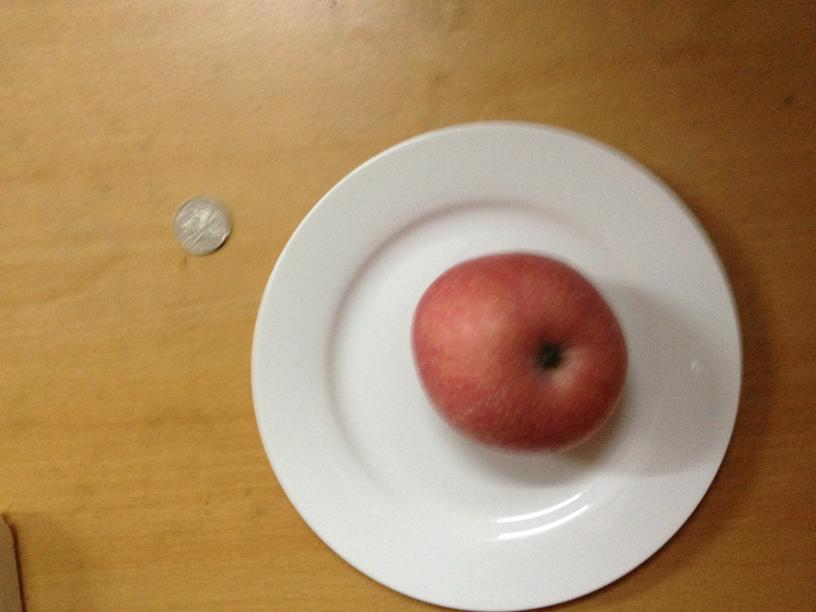apple: (413, 250, 626, 450)
coin: (173, 195, 233, 255)
